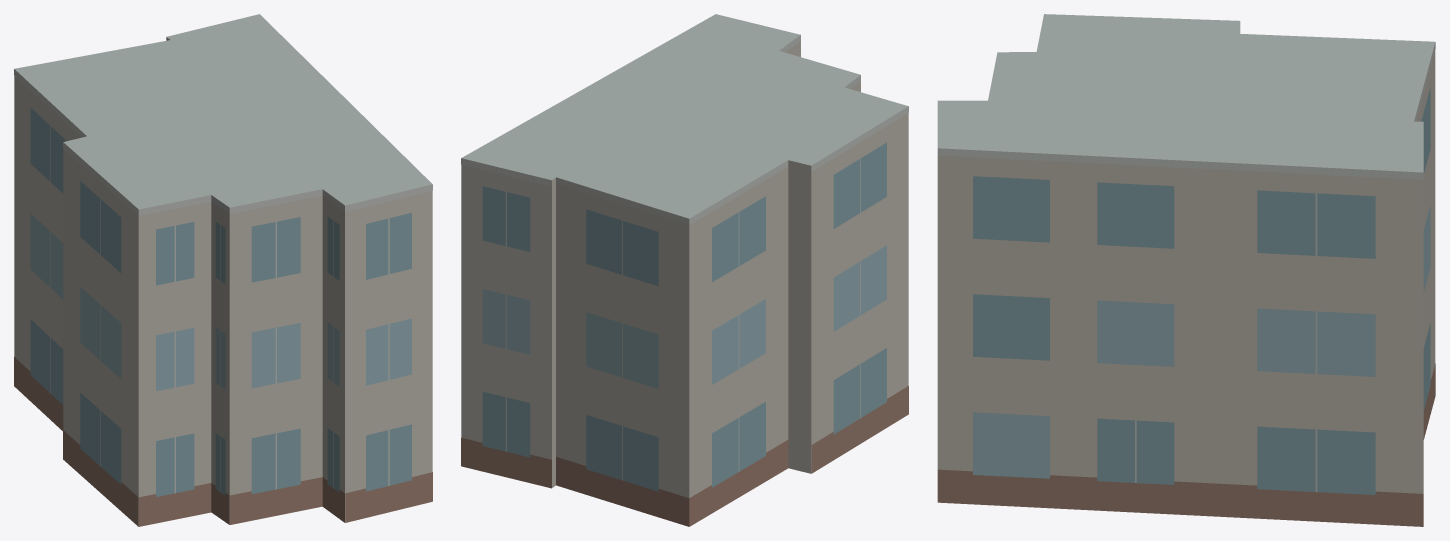
The model's file is survey-upis-33026846.glb.
The picture shows the model from 3 angles, left to right: view 1: azimuth 30°, elevation 25°; view 2: azimuth 150°, elevation 25°; view 3: azimuth 270°, elevation 25°; orthographic projection. The views are drawn at different scales.
Visible parts, largest first — view 1: survey-upis-33026846.tmp; view 2: survey-upis-33026846.tmp; view 3: survey-upis-33026846.tmp.
Part boxes in pixels (bbox=[...]): survey-upis-33026846.tmp: bbox=[14, 14, 432, 526]; survey-upis-33026846.tmp: bbox=[461, 14, 908, 526]; survey-upis-33026846.tmp: bbox=[937, 14, 1435, 526].
Size of the model in its own units: 11.33 by 11.8 by 15.04.
